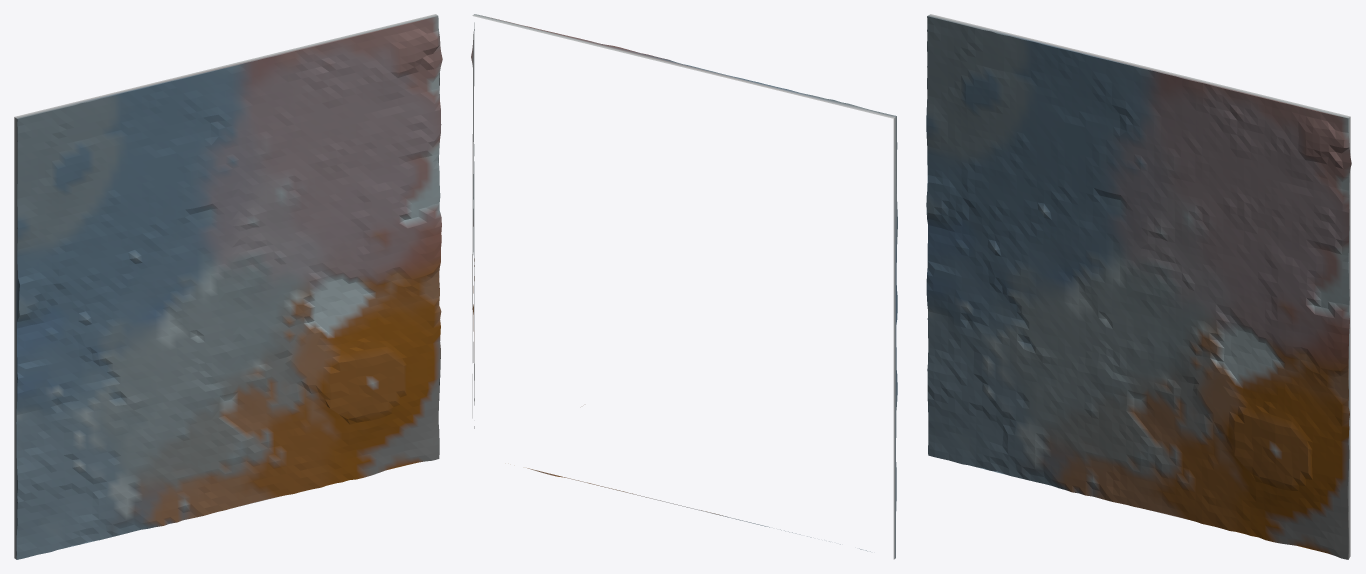
File: floor.glb
3 renders of one model, left to right at view 1: azimuth 30°, elevation 25°; view 2: azimuth 150°, elevation 25°; view 3: azimuth 330°, elevation 25°, orthographic.
Parts seen in each view (by area): view 1: Cube.001; view 2: Cube.001; view 3: Cube.001.
Part boxes in pixels (x1,y1,x2,y2): Cube.001: (14, 14, 442, 559); Cube.001: (471, 14, 897, 559); Cube.001: (926, 14, 1351, 559).
Size of the model in its own units: 40.42 by 40.26 by 1.05.
